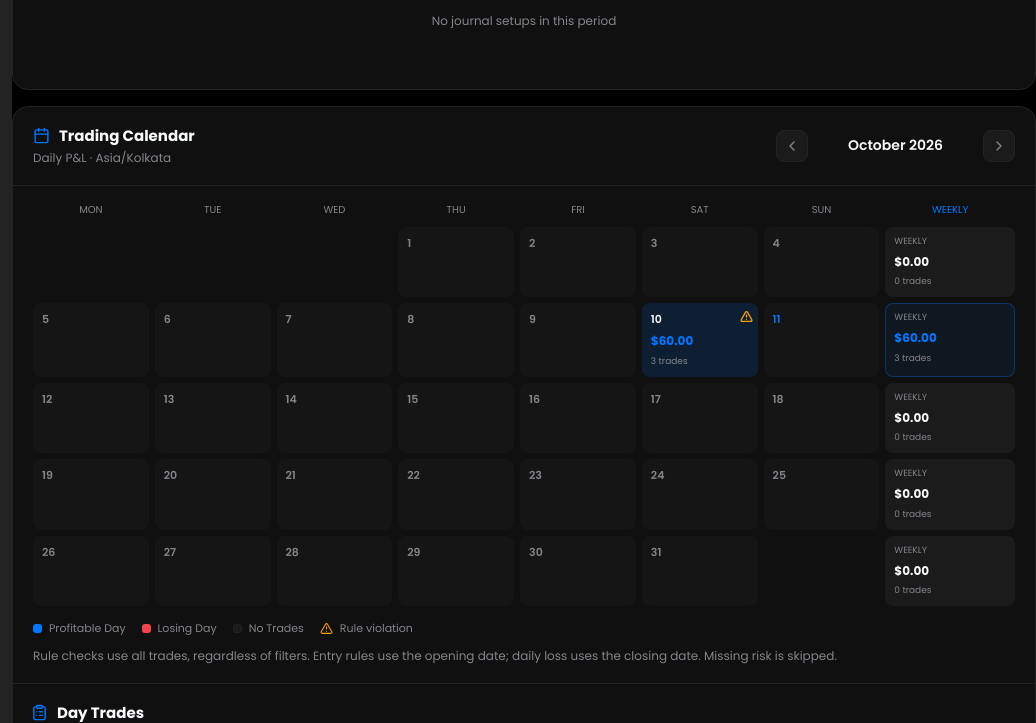
Test: shows one corner marker, all exact violations and relevant trades without altering P&L
The width and height of the screenshot is (1036, 723).
(page scrolled)
Expected: the number of icons with class "an-rule-warning" is 1, [740, 310, 753, 323]
Expected: the text "10" is shown, [651, 311, 662, 328]
Click the button with aria-label "October 10, 3 trades, $60.00, 3 rule violations". click: [700, 340]
box: [642, 303, 758, 377]
(page scrolled)
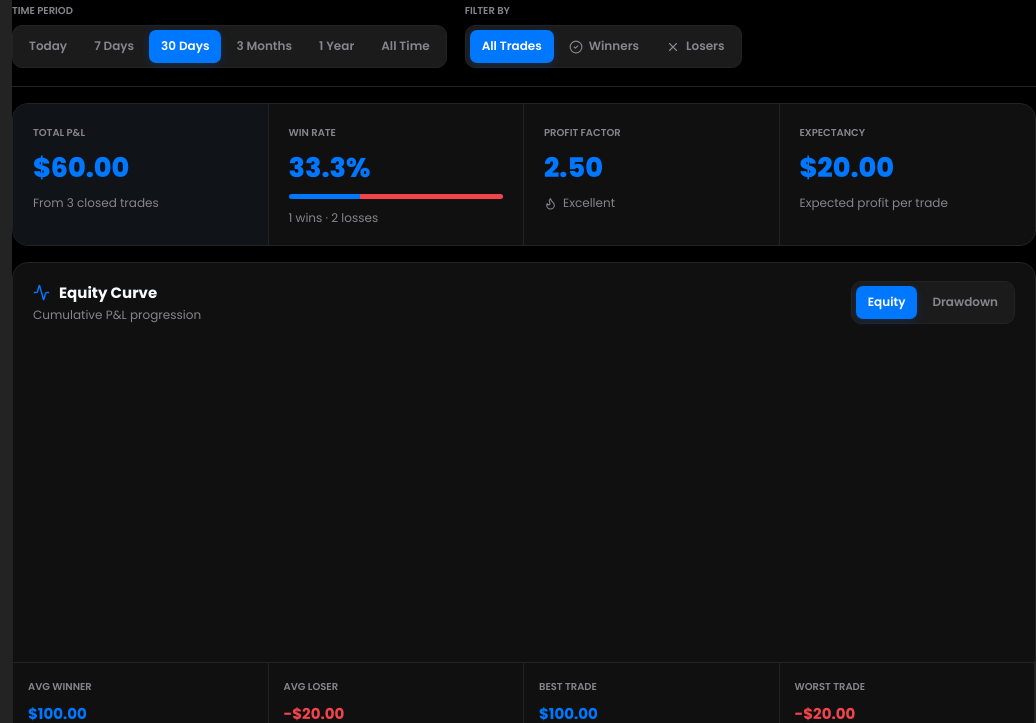
Click the button "Winners". click: [604, 47]
box: [557, 30, 651, 63]
(page scrolled)
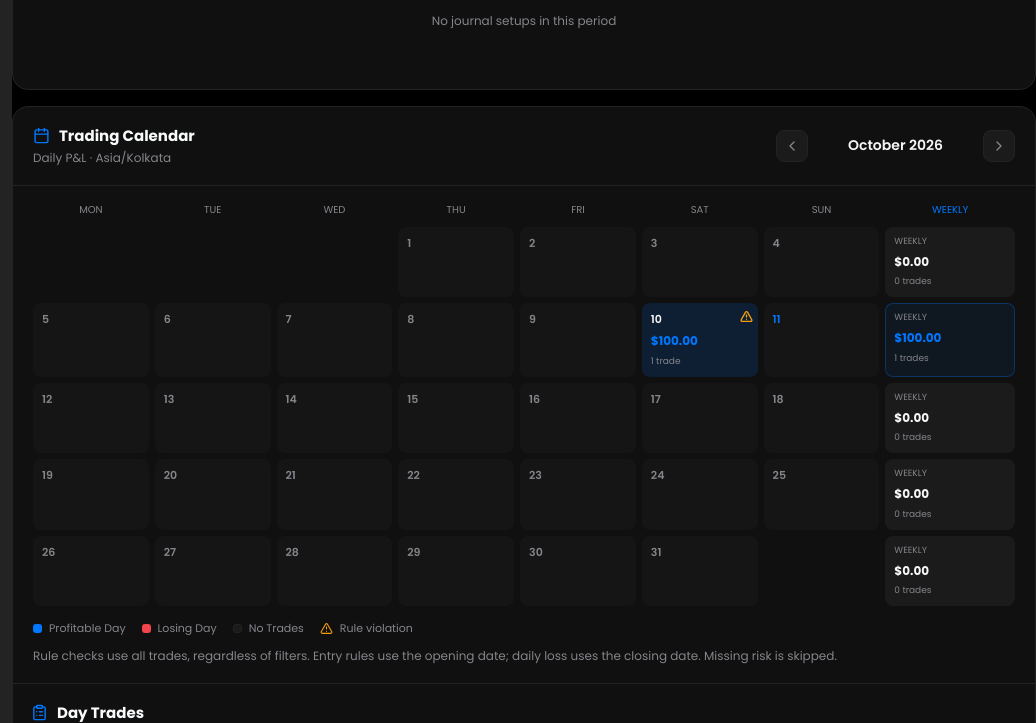
Expected: the button with aria-label "October 10, 1 trades, $100.00, 3 rule violations" is shown, [642, 303, 758, 377]
